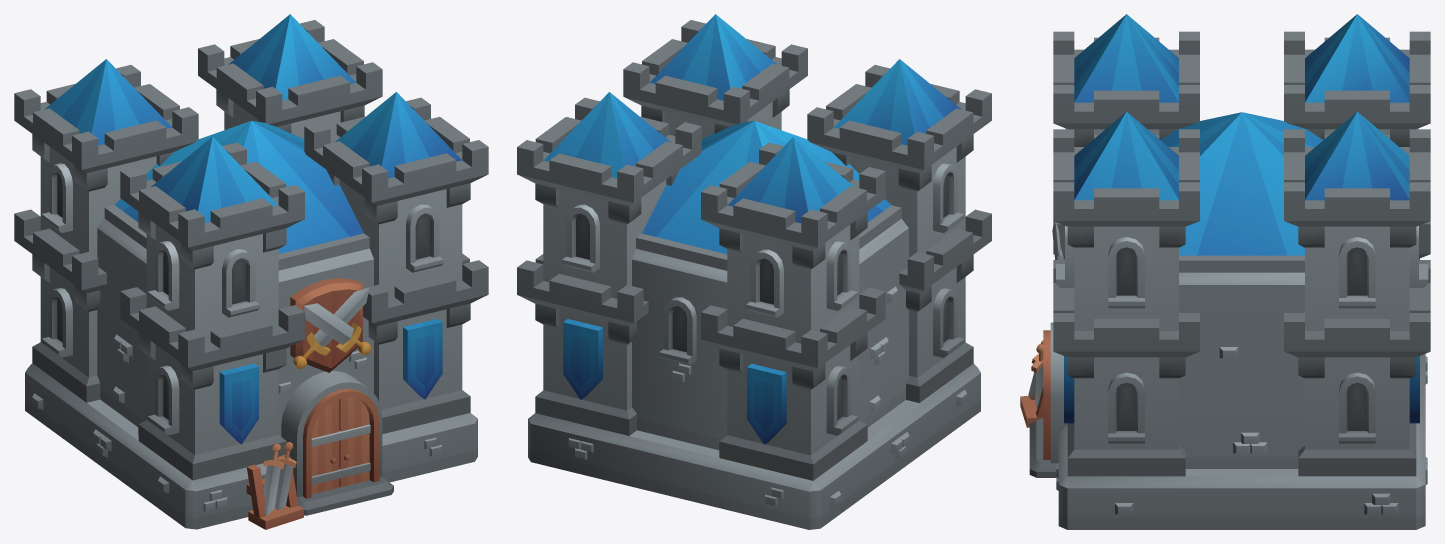
The model's file is building_barracks_blue.glb.
3 views of the same model, side by side, from view 1: azimuth 30°, elevation 25°; view 2: azimuth 150°, elevation 25°; view 3: azimuth 270°, elevation 25° (orthographic). The views are drawn at different scales.
Visible parts, largest first — view 1: building_barracks_blue; view 2: building_barracks_blue; view 3: building_barracks_blue.
Part boxes in pixels (x1,y1,x2,y2): building_barracks_blue: [14, 14, 488, 529]; building_barracks_blue: [517, 14, 991, 529]; building_barracks_blue: [1020, 14, 1430, 529].
Bounding box in the file's own units: 1.44 × 1.64 × 1.57.
1 material, 1 textured.
